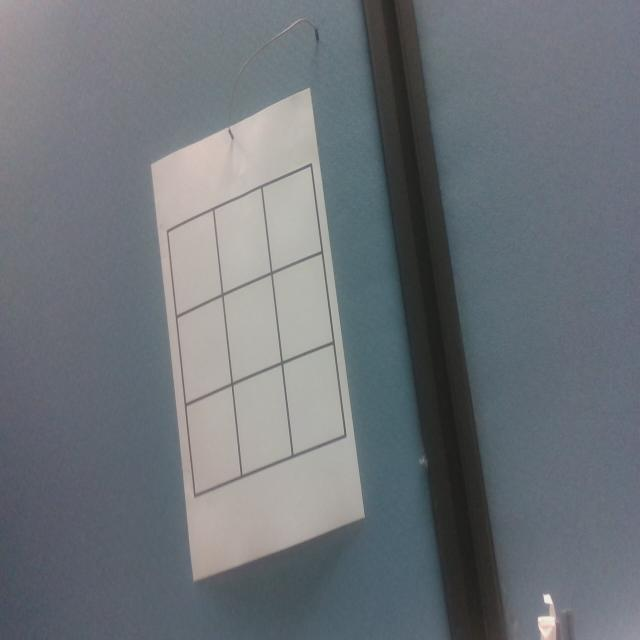null: (286, 346, 344, 457), (234, 369, 290, 478), (275, 254, 332, 361), (225, 276, 282, 383), (187, 387, 240, 495), (264, 167, 319, 269), (179, 297, 231, 403), (170, 211, 220, 315), (218, 189, 269, 288)
table: (150, 157, 354, 503)
